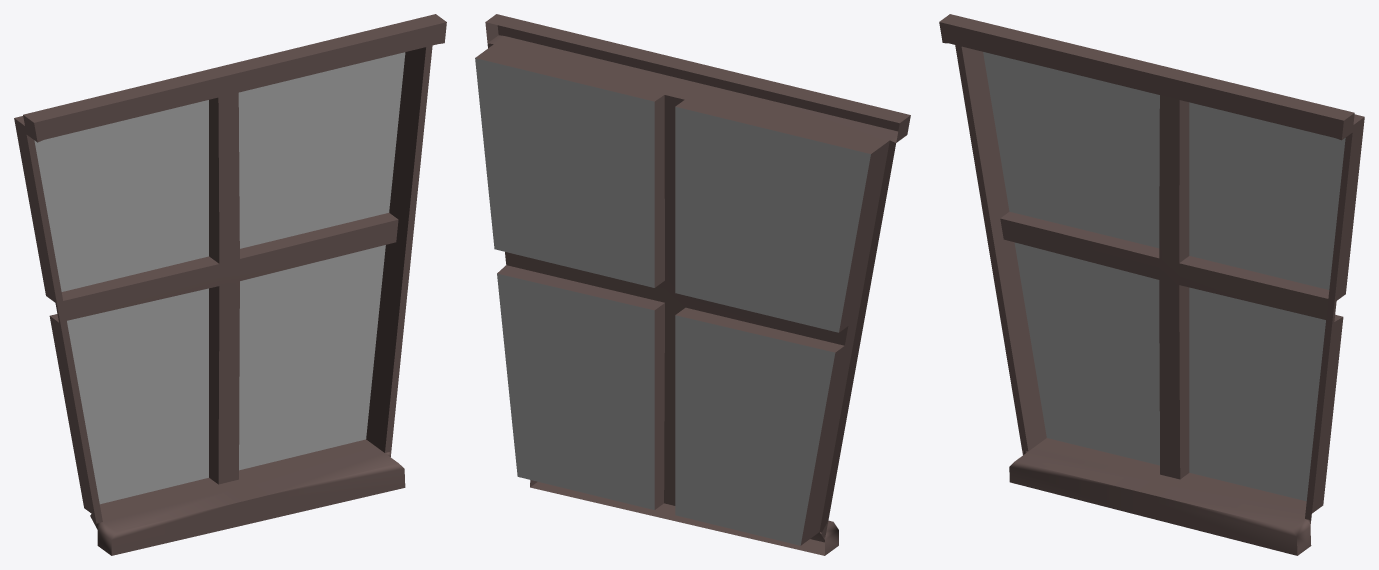
File: Module_Building_Window_TaperUp.fbx
The picture shows the model from 3 angles, left to right: view 1: azimuth 30°, elevation 25°; view 2: azimuth 150°, elevation 25°; view 3: azimuth 330°, elevation 25°; orthographic projection. The views are drawn at different scales.
Parts seen in each view (by area): view 1: Module_Building_Window_TaperUp; view 2: Module_Building_Window_TaperUp; view 3: Module_Building_Window_TaperUp.
Boxes of the visible parts, x1,y1,x2,y2 form: Module_Building_Window_TaperUp: (14, 14, 446, 555); Module_Building_Window_TaperUp: (475, 14, 910, 555); Module_Building_Window_TaperUp: (939, 14, 1364, 555).
Bounding box in the file's own units: 83.73 × 87.74 × 11.5.
